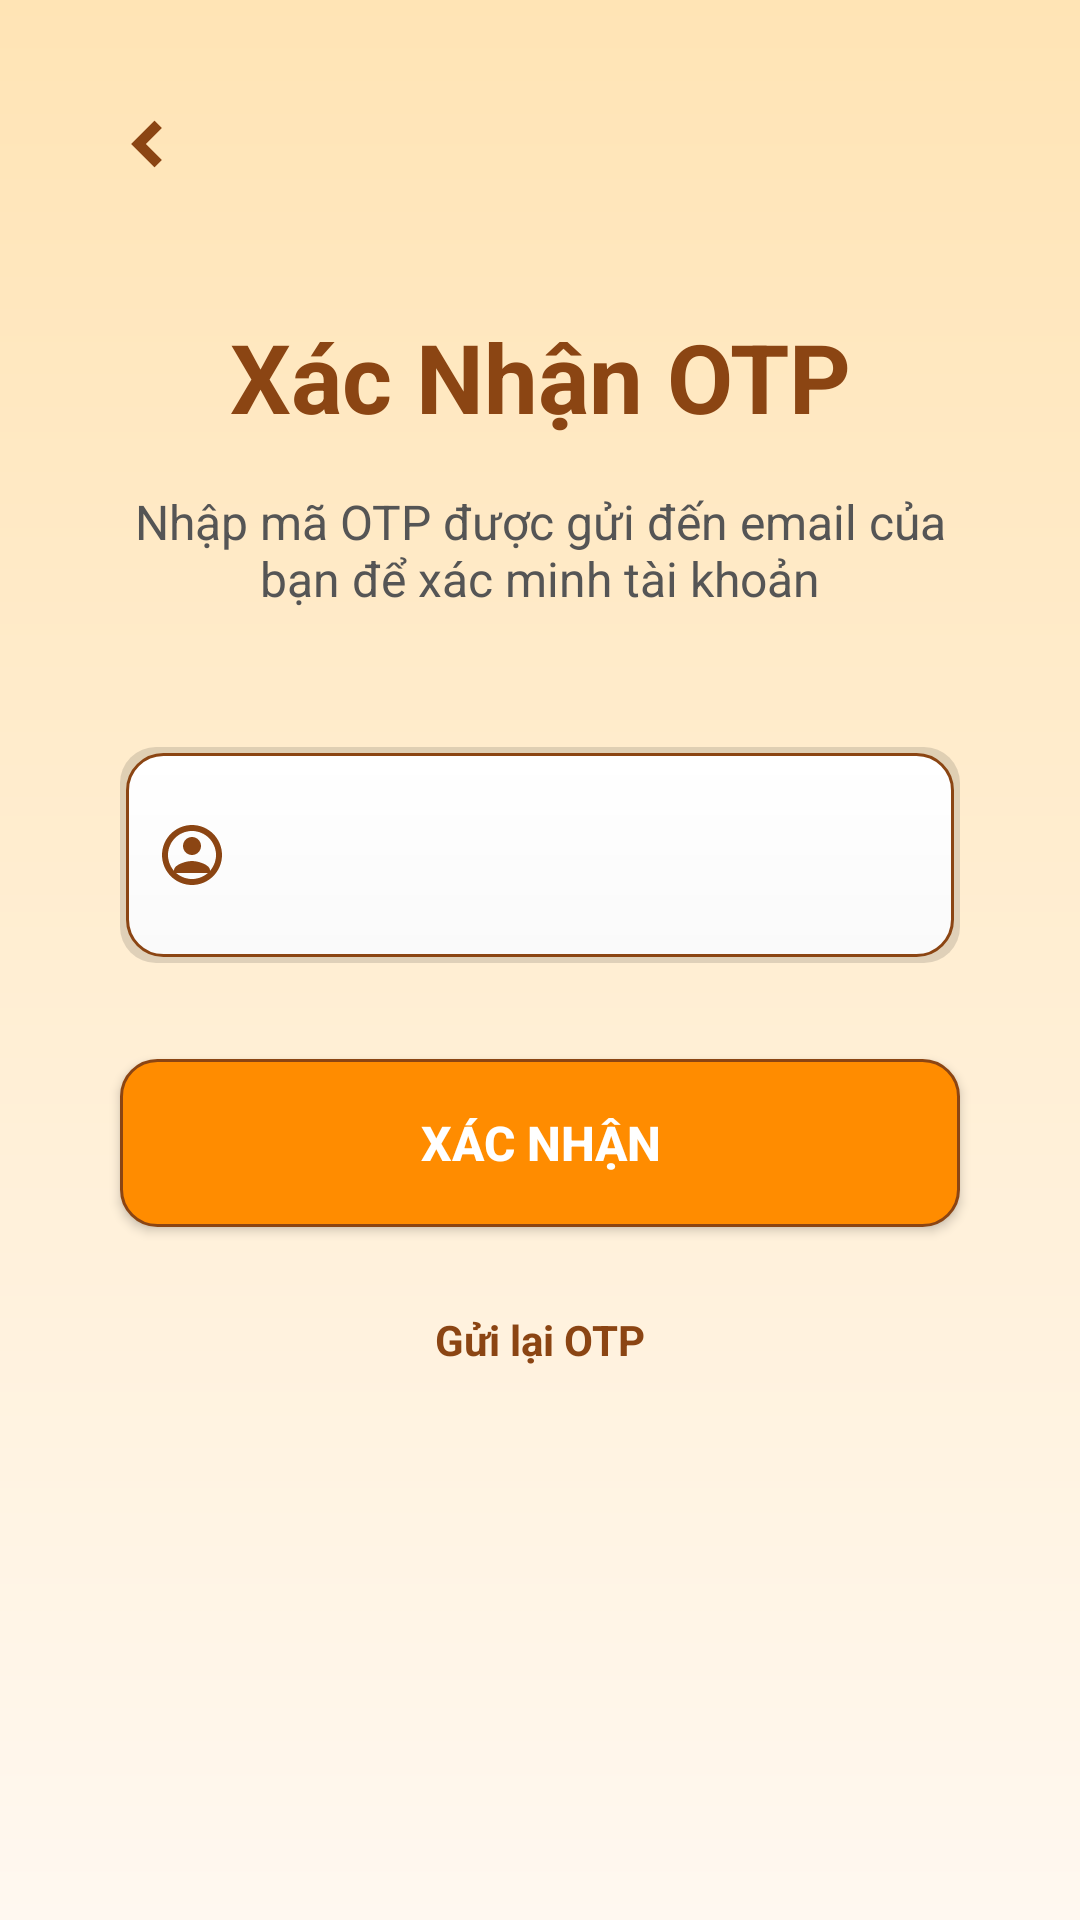

Named icons in this screenshot (1080px x 1920px) and their centers, point (x, y):
Back: point (146, 144)
